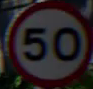Speed limit: (7, 3, 85, 77)
